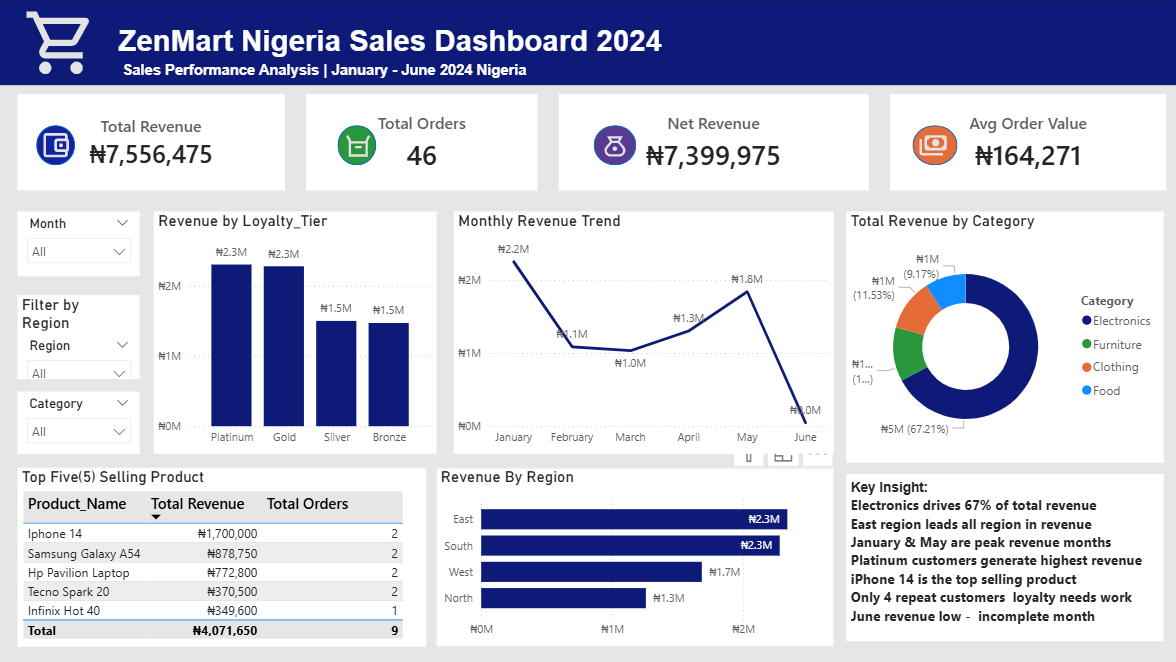

Layout of this report page (visuals, bound fields, positions):
{"tool":"powerbi","page":{"name":"Page 1","canvas":[1600,1000],"ordinal":0},"visuals":[{"type":"textbox","box":[0,0,1600.3,103.5],"z":0},{"type":"cardVisual","title":"Total Revenue","fields":{"Data":["Orders.Total Revenue"]},"box":[19,103.2,290.5,104.5],"z":1000},{"type":"cardVisual","title":"Total Orders","fields":{"Data":["Orders.Total Orders"]},"box":[332.6,103.2,251.2,104.5],"z":2000},{"type":"cardVisual","title":"Avg Order Value","fields":{"Data":["Orders.Avg Order Value"]},"box":[972.4,105.2,298.7,103.5],"z":3000},{"type":"clusteredBarChart","title":" Revenue By Region","fields":{"Category":["Orders.Region"],"Y":["Orders.Total Revenue"]},"box":[519.3,638.1,560,339.4],"z":4000},{"type":"slicer","title":"Filter by Region","fields":{"Values":["Orders.Region"]},"box":[18.7,448,174.8,168],"z":5000},{"type":"lineChart","title":"Monthly Revenue Trend","fields":{"Y":["Orders.Total Revenue"],"Category":["Orders.Order_Date.Variation.Date Hierarchy.Month"]},"box":[644.9,230.8,509.1,385.2],"z":6000},{"type":"donutChart","fields":{"Category":["Orders.Category"],"Y":["Orders.Total Revenue"]},"box":[1172.7,230.8,409,385.2],"z":7000},{"type":"clusteredColumnChart","title":" Revenue by Loyalty_Tier","fields":{"Category":["Customers.Loyalty_Tier"],"Y":["Orders.Total Revenue"]},"box":[212.1,230.8,412.4,385.2],"z":8000},{"type":"cardVisual","title":"Net Revenue","fields":{"Data":["Orders.Net Revenue"]},"box":[606.9,103.2,336.7,104.5],"z":9000},{"type":"tableEx","title":"Top Five(5) Selling Product","fields":{"Values":["Orders.Product_Name","Orders.Total Revenue","Orders.Total Orders"]},"box":[18.7,638.1,483.7,339.4],"z":10000},{"type":"slicer","title":"Filter by Month","fields":{"Values":["Orders.Order_Date.Variation.Date Hierarchy.Month"]},"box":[18.7,230.8,174.8,86.6],"z":11000},{"type":"slicer","title":"Filter by Category","fields":{"Values":["Orders.Category"]},"box":[18.7,339.4,174.8,86.6],"z":12000},{"type":"textbox","title":"key Insights","box":[1092.9,638.1,488.8,339.4],"z":13000},{"type":"image","box":[19,6.8,95,81.5],"z":14000},{"type":"shape","box":[39.4,137.1,42.1,43.4],"z":15000},{"type":"shape","box":[991.1,137.5,49.2,44.1],"z":16000},{"type":"shape","box":[644.9,137.1,46.2,43.4],"z":17000},{"type":"shape","box":[366.6,137.1,42.1,43.4],"z":18000},{"type":"image","box":[991.1,142.6,44.8,32.6],"z":19000},{"type":"image","box":[33.9,141.2,52.9,35.3],"z":20000},{"type":"image","box":[367.9,145.3,42.1,31.2],"z":21000},{"type":"image","box":[650.3,145.3,35.3,29.9],"z":22000},{"type":"cardVisual","title":"Avg Order Value","fields":{"Data":["Sum(Orders.Discount)"]},"box":[1293.2,103.5,288.5,103.5],"z":22001},{"type":"shape","box":[1313.5,140.9,52.6,52.6],"z":22002},{"type":"image","box":[1313.5,151,52.6,35.6],"z":22003}]}

Visuals, with their boxes on the page's 1600x1000 design canvas (x1, y1, x2, y2). These are canvas units, not pixel positions in the 1176x662 screenshot, which may show the page scaled, cropped or inside an application window:
textbox: locate(0, 0, 1600, 104)
"Total Revenue" cardVisual: locate(19, 103, 310, 208)
"Total Orders" cardVisual: locate(333, 103, 584, 208)
"Avg Order Value" cardVisual: locate(972, 105, 1271, 209)
" Revenue By Region" clusteredBarChart: locate(519, 638, 1079, 978)
"Filter by Region" slicer: locate(19, 448, 194, 616)
"Monthly Revenue Trend" lineChart: locate(645, 231, 1154, 616)
donutChart - Orders.Category x Orders.Total Revenue: locate(1173, 231, 1582, 616)
" Revenue by Loyalty_Tier" clusteredColumnChart: locate(212, 231, 624, 616)
"Net Revenue" cardVisual: locate(607, 103, 944, 208)
"Top Five(5) Selling Product" tableEx: locate(19, 638, 502, 978)
"Filter by Month" slicer: locate(19, 231, 194, 317)
"Filter by Category" slicer: locate(19, 339, 194, 426)
"key Insights" textbox: locate(1093, 638, 1582, 978)
image: locate(19, 7, 114, 88)
shape: locate(39, 137, 82, 180)
shape: locate(991, 138, 1040, 182)
shape: locate(645, 137, 691, 180)
shape: locate(367, 137, 409, 180)
image: locate(991, 143, 1036, 175)
image: locate(34, 141, 87, 176)
image: locate(368, 145, 410, 176)
image: locate(650, 145, 686, 175)
"Avg Order Value" cardVisual: locate(1293, 104, 1582, 207)
shape: locate(1314, 141, 1366, 194)
image: locate(1314, 151, 1366, 187)
